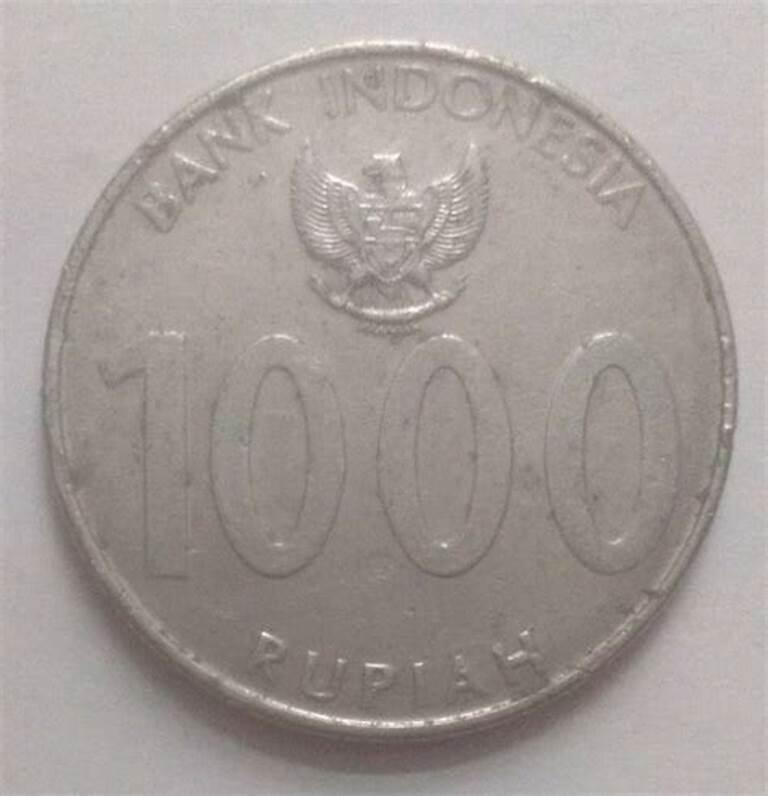coin_1000_e2010: (50, 43, 742, 754)
